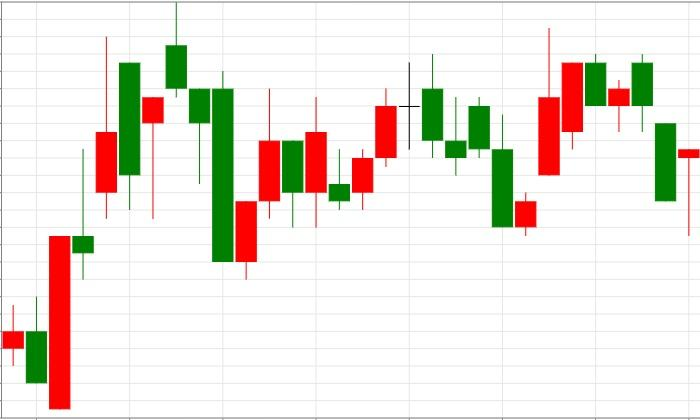bearish_engulfing_fall: (514, 27, 654, 236)
hanging_man_fall: (49, 37, 164, 410)
